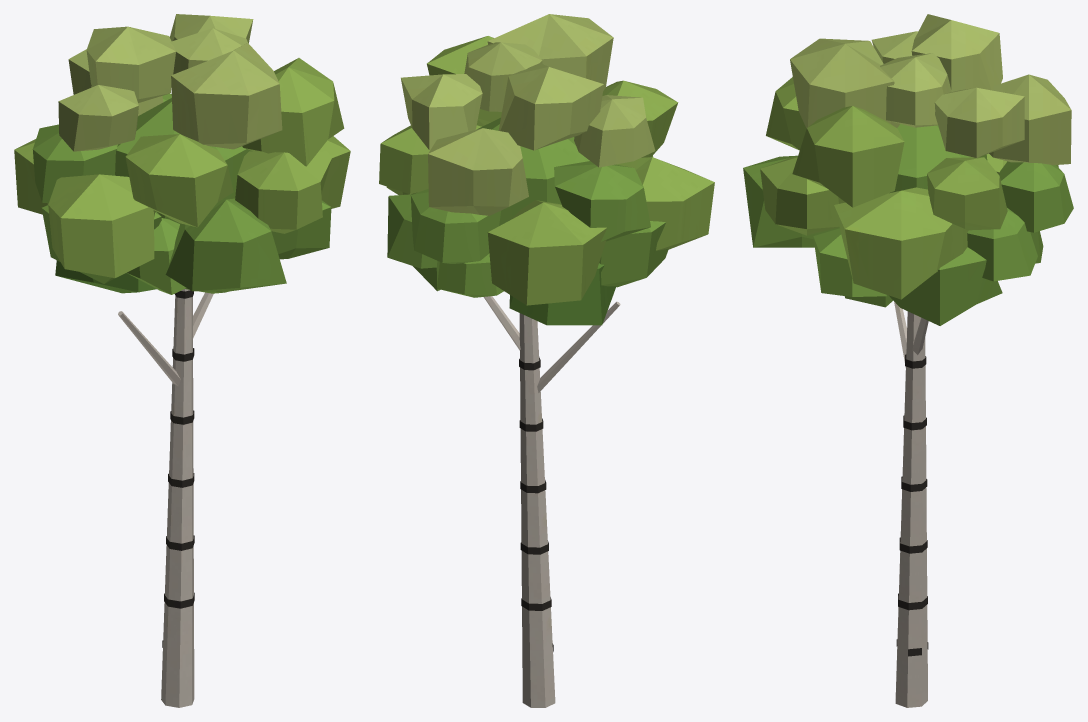
The model's file is tree_birch_01.glb.
3 views of the same model, side by side, from view 1: azimuth 30°, elevation 25°; view 2: azimuth 150°, elevation 25°; view 3: azimuth 270°, elevation 25° (orthographic).
Visible parts, largest first — view 1: tree_birch_01; view 2: tree_birch_01; view 3: tree_birch_01.
Part boxes in pixels (box(x1,y1,x2,y2)): tree_birch_01: box(14, 14, 350, 707); tree_birch_01: box(379, 14, 714, 707); tree_birch_01: box(743, 14, 1073, 707).
Bounding box in the file's own units: 3.12 × 6.48 × 2.91.
6 materials, 6 textured.
